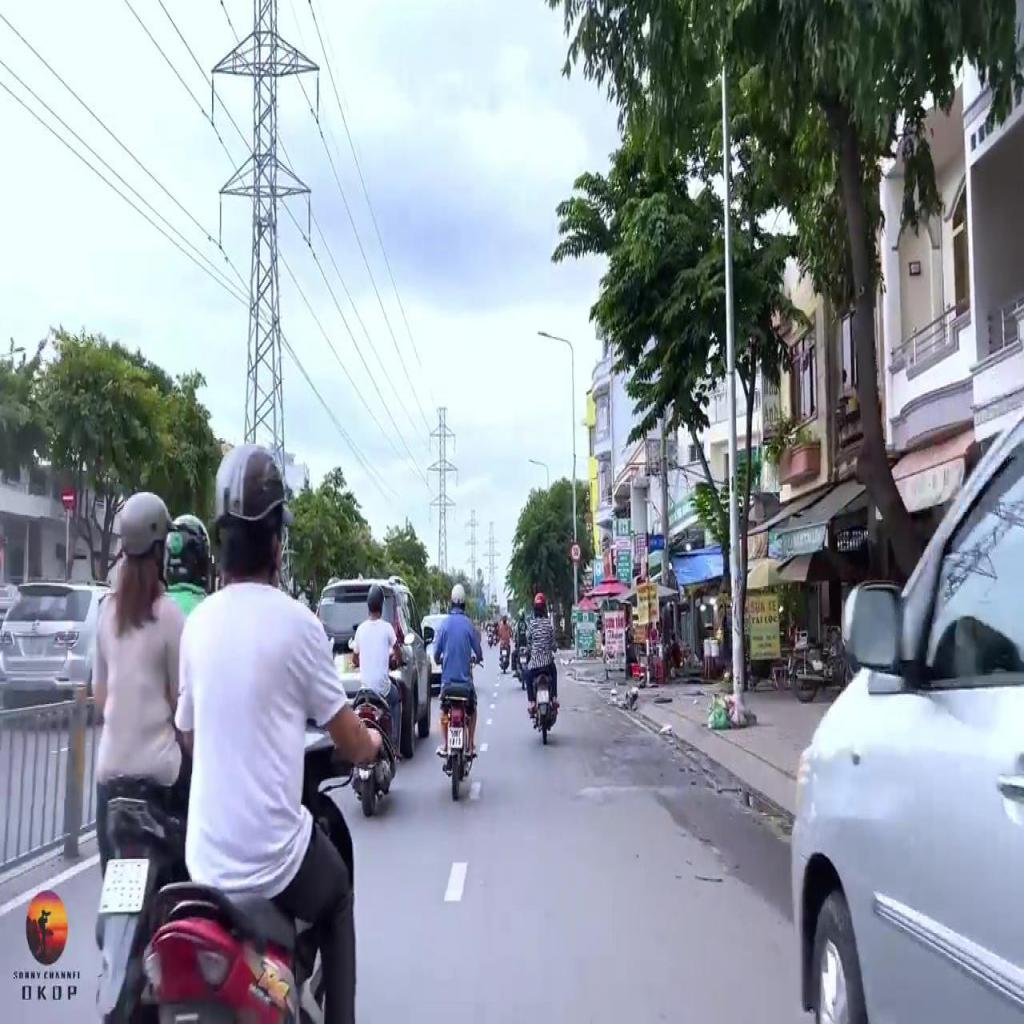toc_do_toi_da_50: (572, 543, 582, 562)
